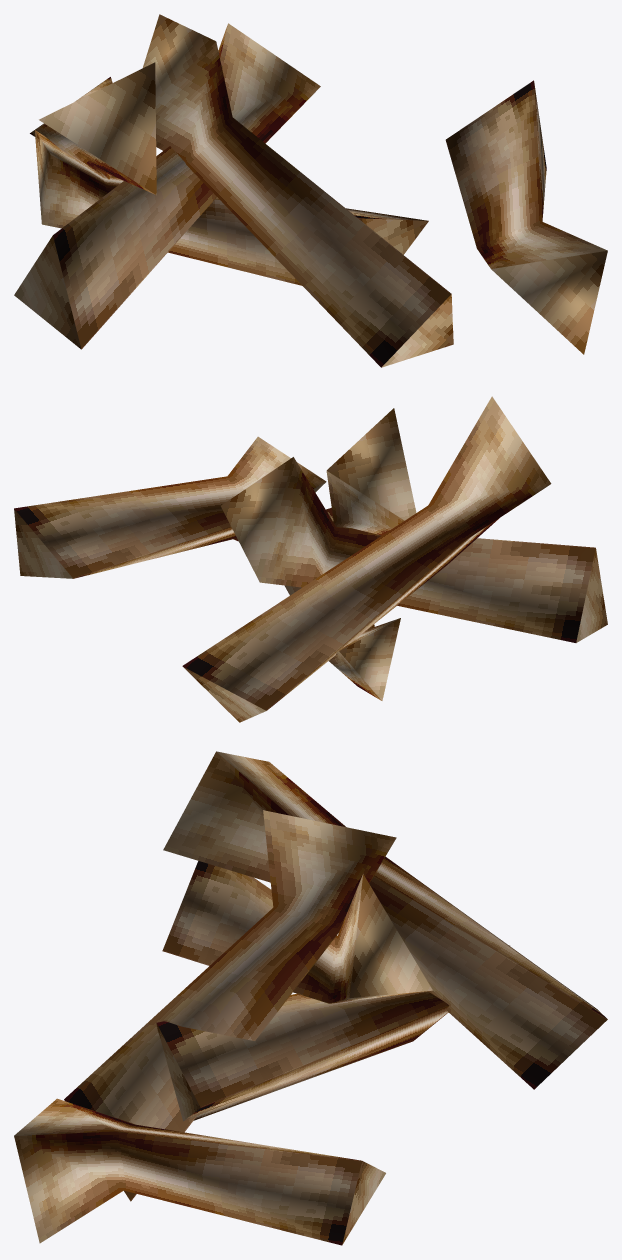
Rendered from blastedlandsbonepile03.obj.
3 views of the same model, one above another, from view 1: azimuth 30°, elevation 25°; view 2: azimuth 150°, elevation 25°; view 3: azimuth 270°, elevation 25° (orthographic). The views are drawn at different scales.
Visible parts, largest first — view 1: blastedlandsbonepile03.m2; view 2: blastedlandsbonepile03.m2; view 3: blastedlandsbonepile03.m2.
Boxes of the visible parts, <box> form: blastedlandsbonepile03.m2: <box>14,14,607,367</box>; blastedlandsbonepile03.m2: <box>14,396,607,722</box>; blastedlandsbonepile03.m2: <box>14,751,607,1245</box>.
Bounding box in the file's own units: 0.741 × 0.3911 × 0.6537.
1 material, 1 textured.
